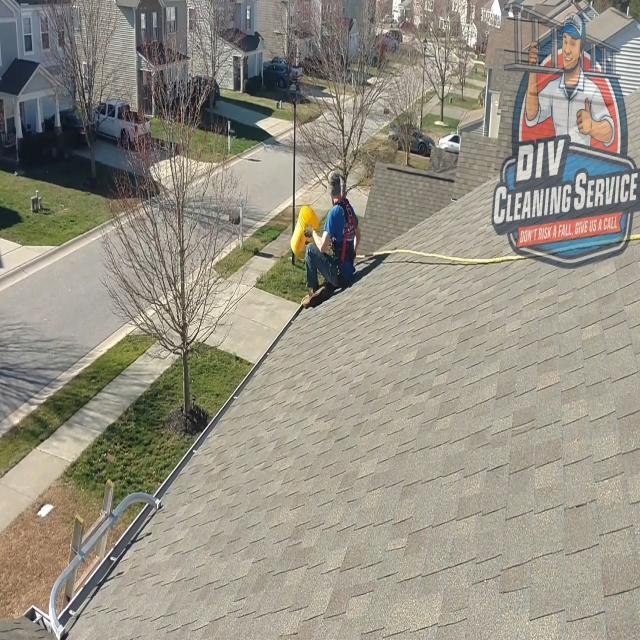belt: (327, 192, 358, 288)
